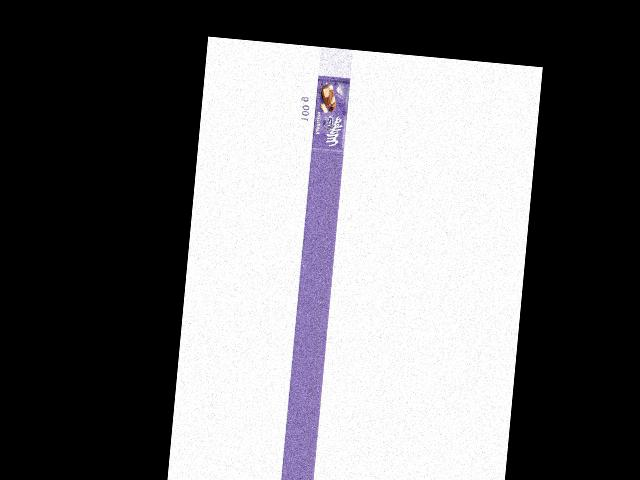chocolate: (306, 74, 351, 155)
